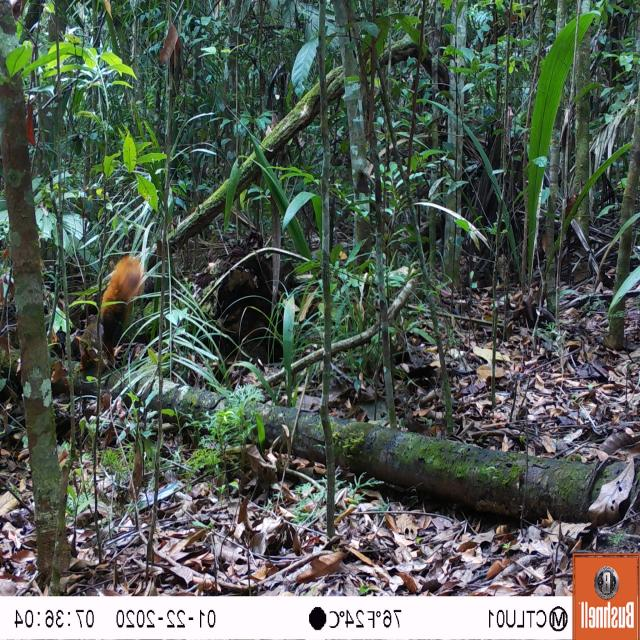Squirrel: (80, 251, 147, 360)
